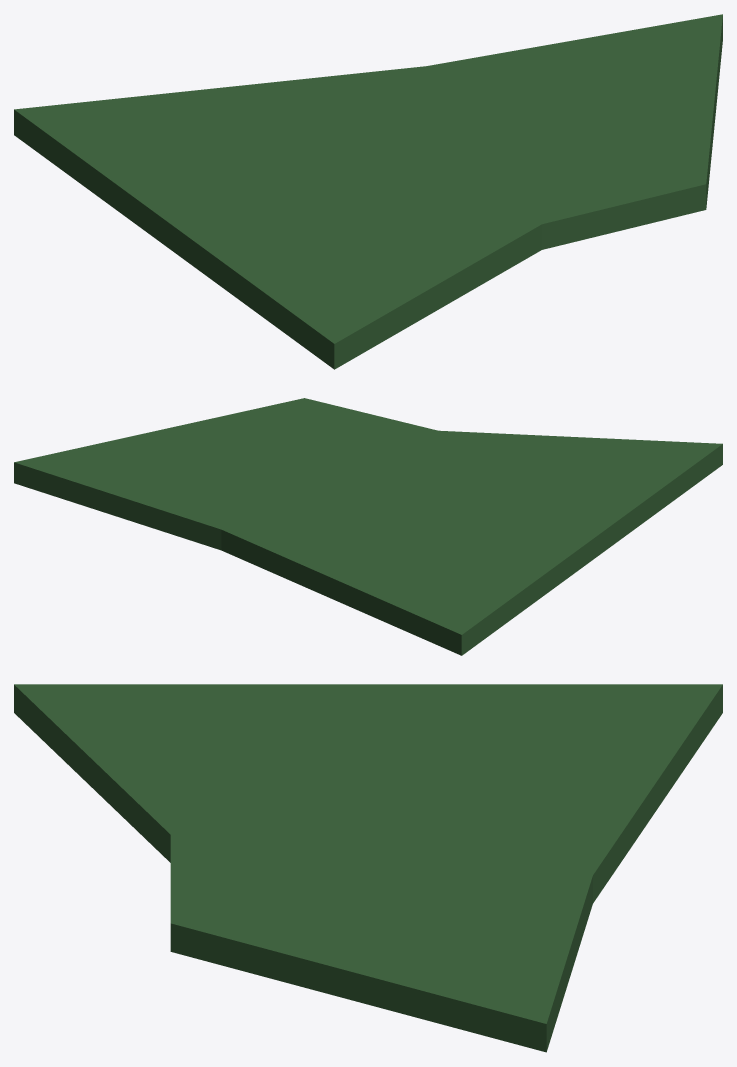
Rendered from x_proval_00_65_1_rmstrd.fbx.
3 renders of one model, top to bottom at view 1: azimuth 30°, elevation 25°; view 2: azimuth 150°, elevation 25°; view 3: azimuth 270°, elevation 25°, orthographic. The views are drawn at different scales.
Visible parts, largest first — view 1: x_proval_00_65_1_rmstrd1; view 2: x_proval_00_65_1_rmstrd1; view 3: x_proval_00_65_1_rmstrd1.
Part boxes in pixels (x1,y1,x2,y2): x_proval_00_65_1_rmstrd1: (14,14,722,369); x_proval_00_65_1_rmstrd1: (14,398,722,655); x_proval_00_65_1_rmstrd1: (14,684,722,1052).
Bounding box in the file's own units: 5.13 × 0.2 × 4.52.
